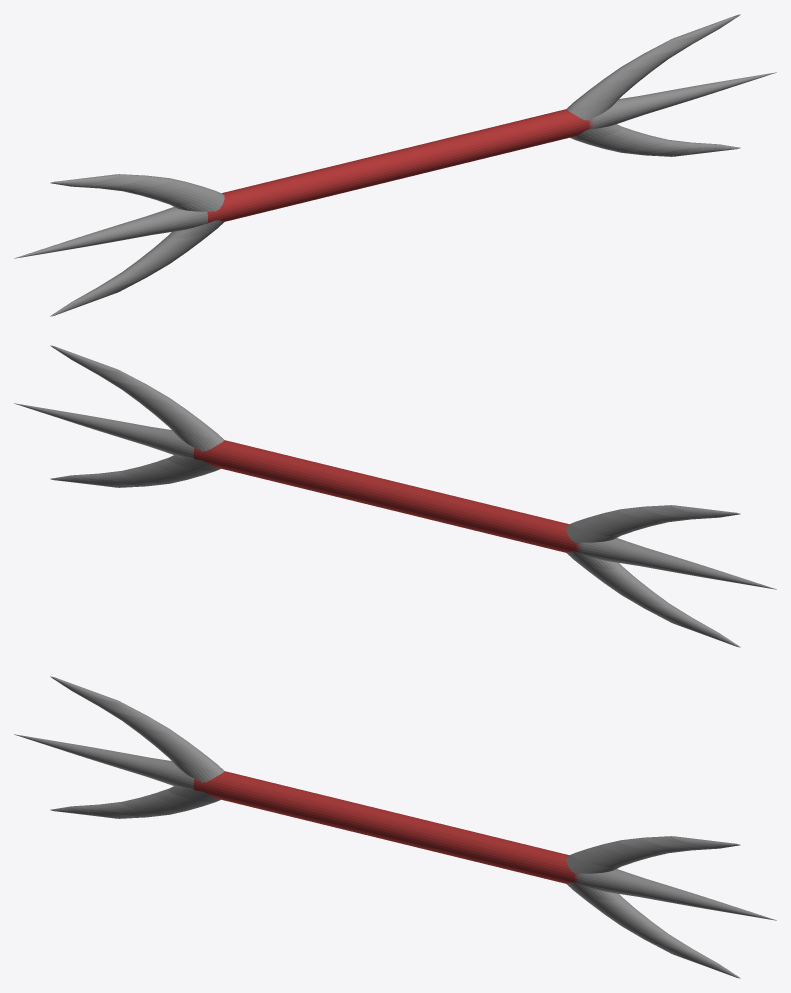
File: L_spear.obj
3 renders of one model, top to bottom at view 1: azimuth 30°, elevation 25°; view 2: azimuth 150°, elevation 25°; view 3: azimuth 330°, elevation 25°, orthographic.
Visible parts, largest first — view 1: 円柱; view 2: 円柱; view 3: 円柱.
Boxes of the visible parts, x1=… form: 円柱: x1=14, y1=14, x2=776, y2=316; 円柱: x1=14, y1=345, x2=776, y2=647; 円柱: x1=14, y1=676, x2=776, y2=978.
Bounding box in the file's own units: 6.13 × 1.02 × 0.2004.
